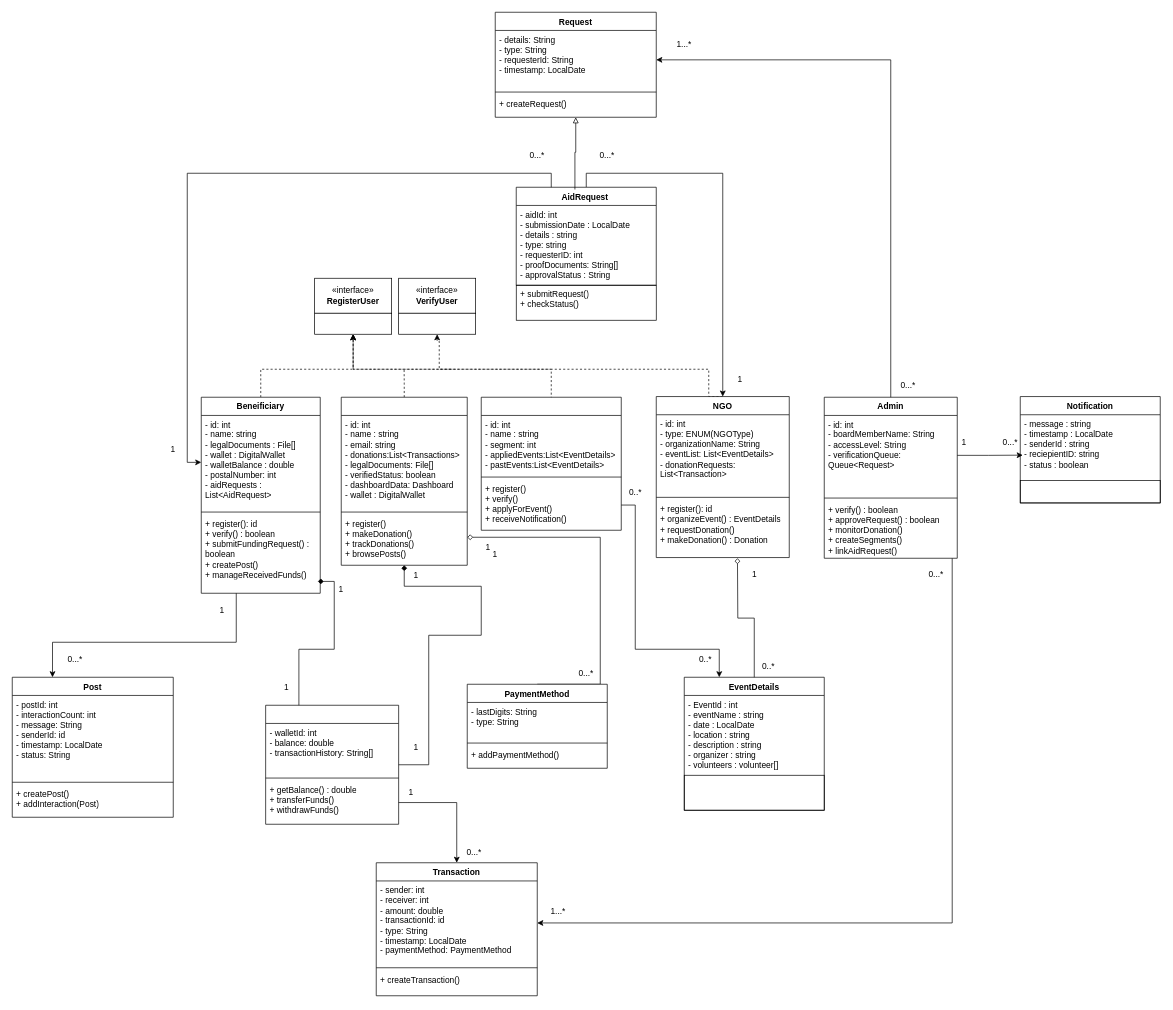
Image size: 1173x1010. Some labels were removed from this diagram. The box of each missing label's shape, as (x1, y1, x2, y2) in pixels:
+ organizeEvent() + assignVolunteers(): (684, 775, 824, 810)
+ register(): (314, 313, 392, 334)
+ sendNotification(): (1020, 480, 1160, 503)
+ verify(): (398, 313, 476, 334)
DigitWallet: (265, 705, 399, 824)
Donor: (341, 397, 467, 565)
Volunteer: (481, 397, 621, 530)
